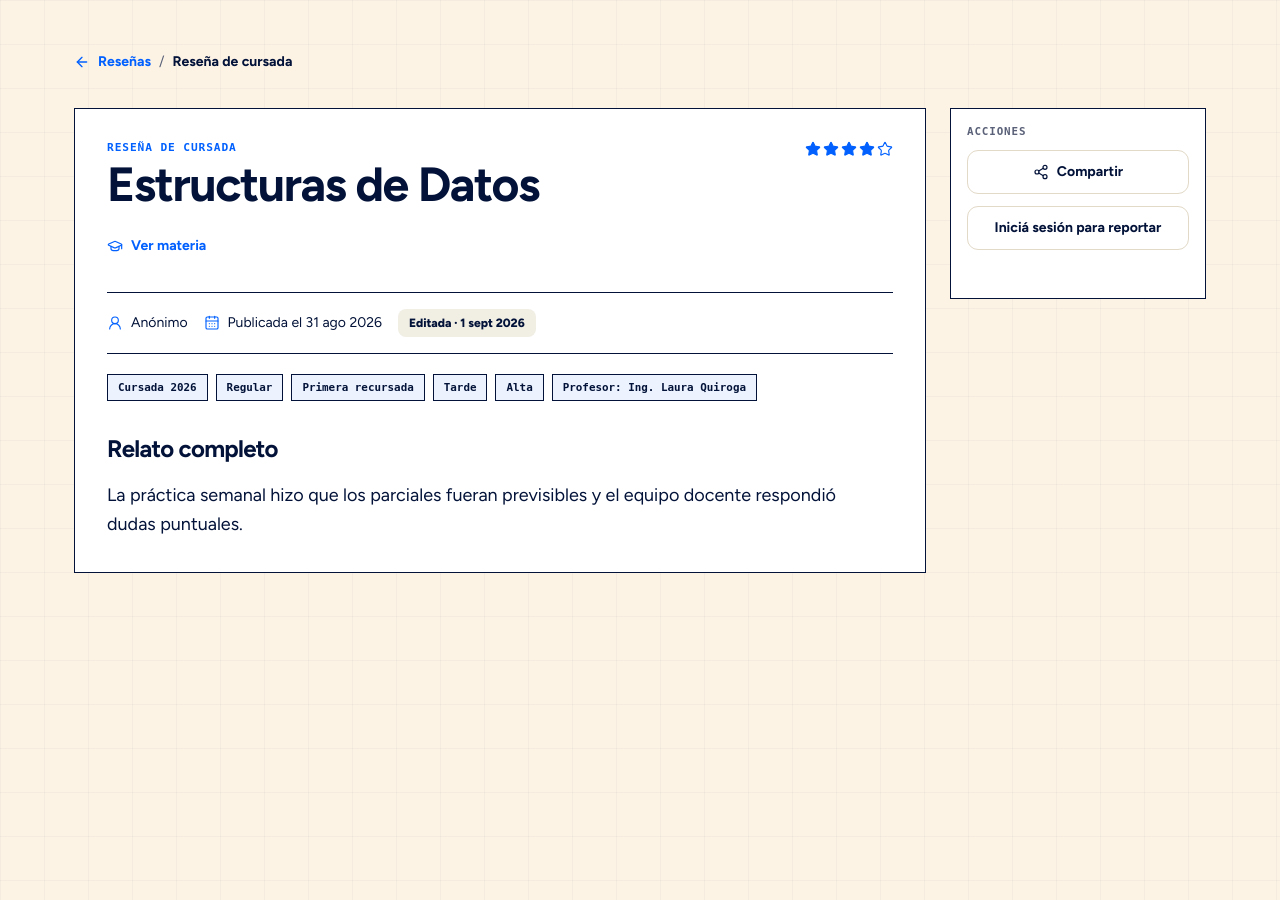
Scenario: CommunityDetailPage › shares the stable direct URL through the browser share action
Expected: the heading "Estructuras de Datos" is shown, [107,162,539,208]
Step 1. Click the button "Compartir" → (1078, 172), box [967,150,1189,194]
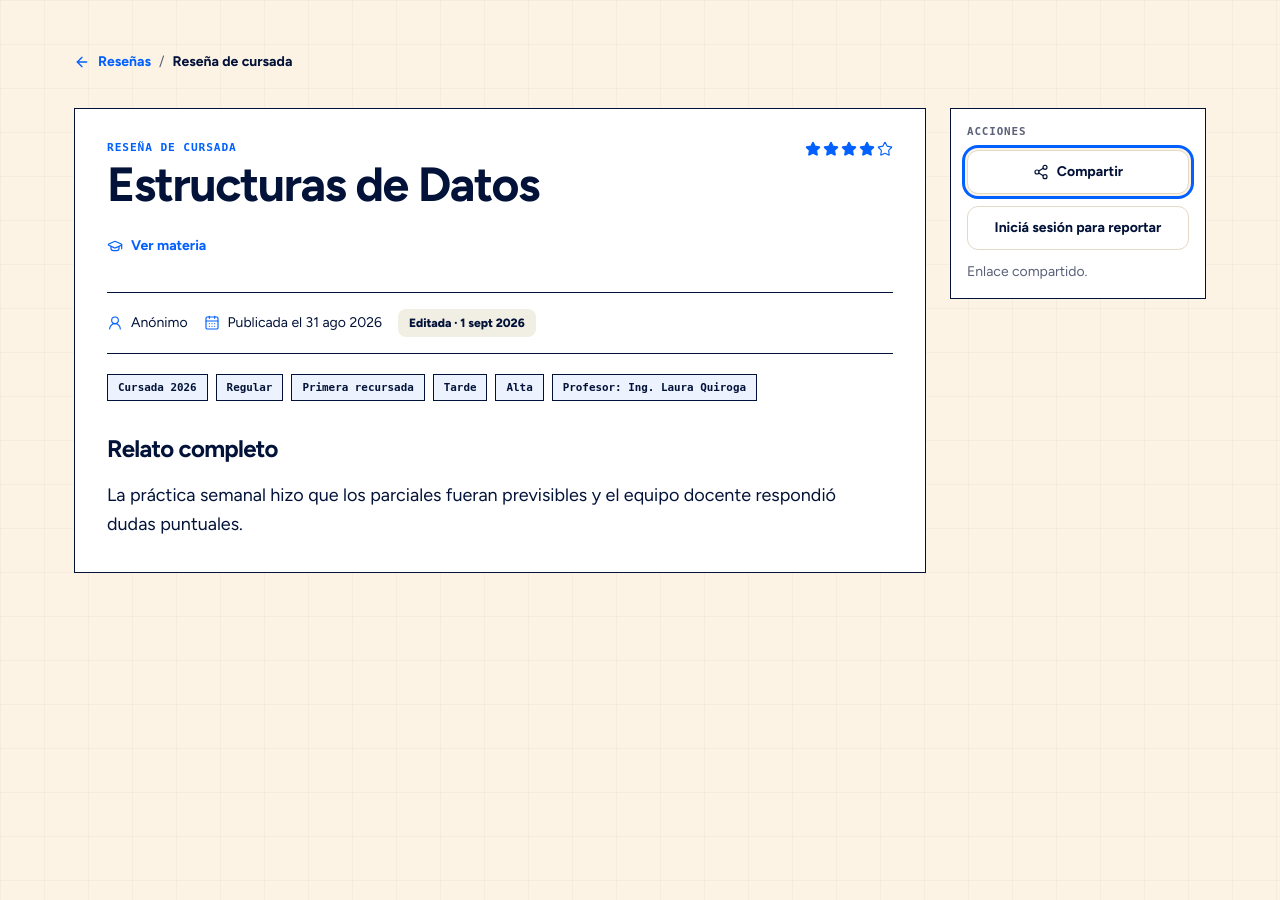
Now the text "Enlace compartido." is shown, box [967,263,1088,280]
